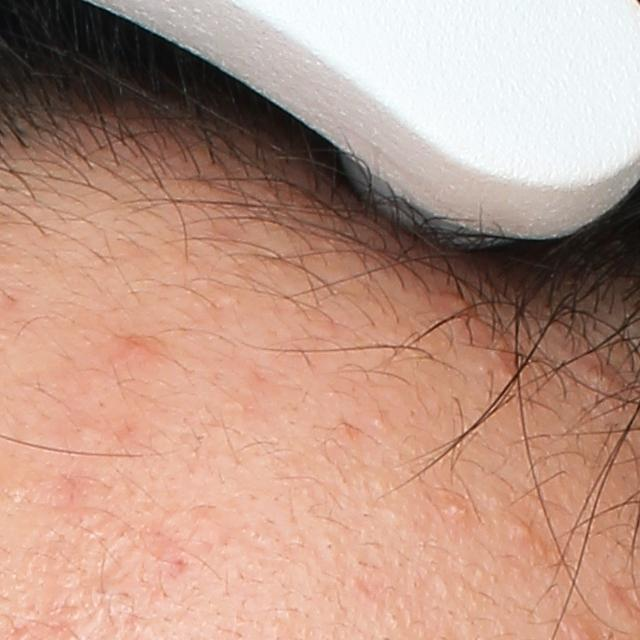papule: (122, 335, 153, 359)
